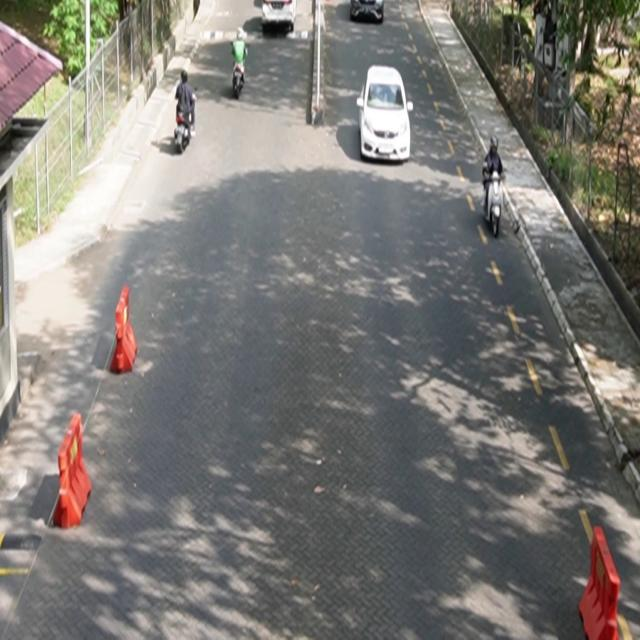car: (357, 65, 414, 164), (262, 1, 298, 33), (351, 1, 385, 24)
